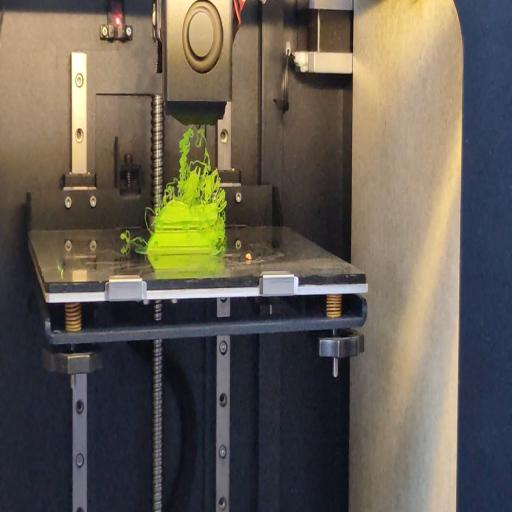spaghetti: (161, 124, 225, 206), (218, 204, 228, 254), (119, 231, 148, 248), (144, 206, 153, 224)
